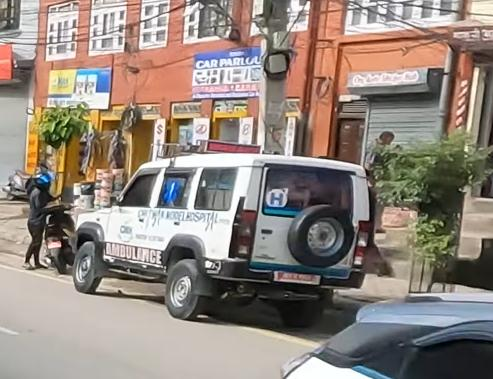ambulance: (62, 137, 378, 329)
